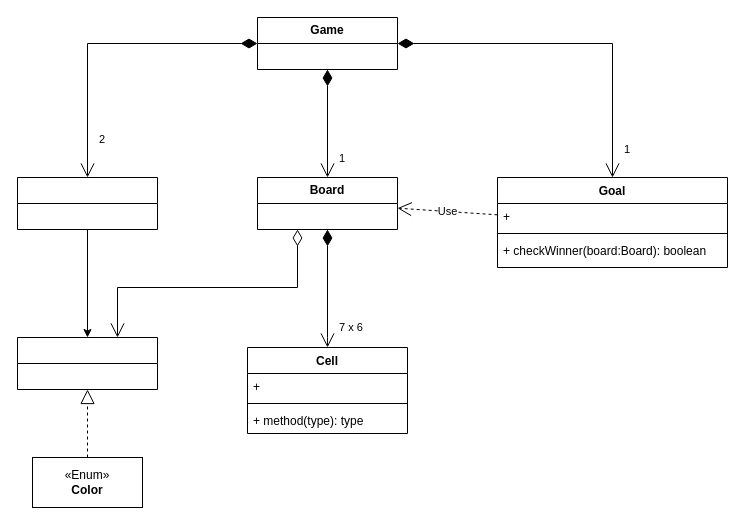
The diagram is 745 pixels wide and 525 high, and some of its shapes have lost their labels. Here are the shapes that lost their labels. From the top down, the centre of each, then its label:
At (x=87, y=203): "Player".
At (x=87, y=363): "Coin".
